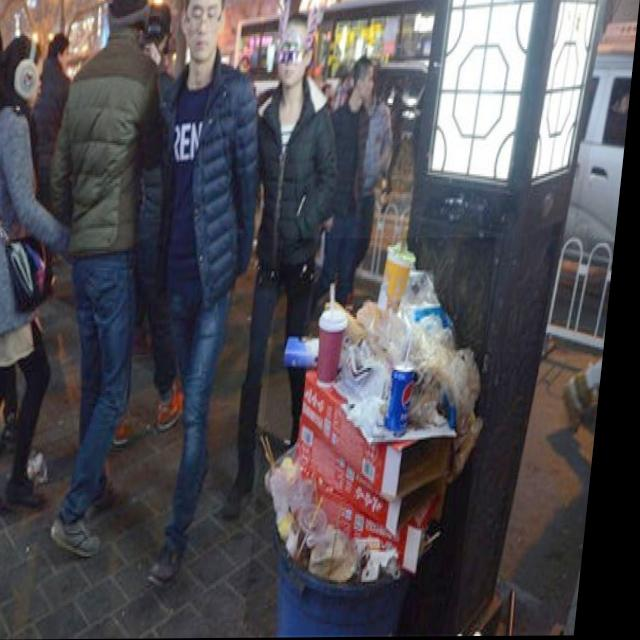overflow: (256, 238, 501, 636)
